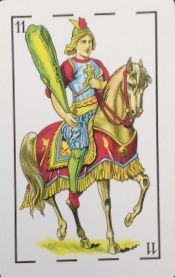11b: (9, 10, 159, 36)
